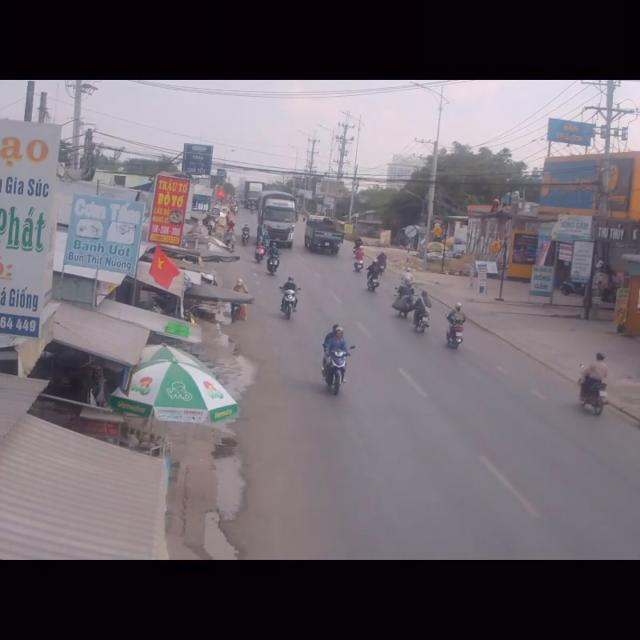motorbike: (576, 348, 608, 421), (322, 324, 352, 401), (393, 271, 419, 318), (446, 303, 466, 352), (280, 273, 298, 322), (412, 283, 430, 331), (366, 257, 380, 295), (267, 239, 280, 273), (352, 244, 366, 272), (377, 250, 388, 276)
truck: (304, 215, 340, 258)
